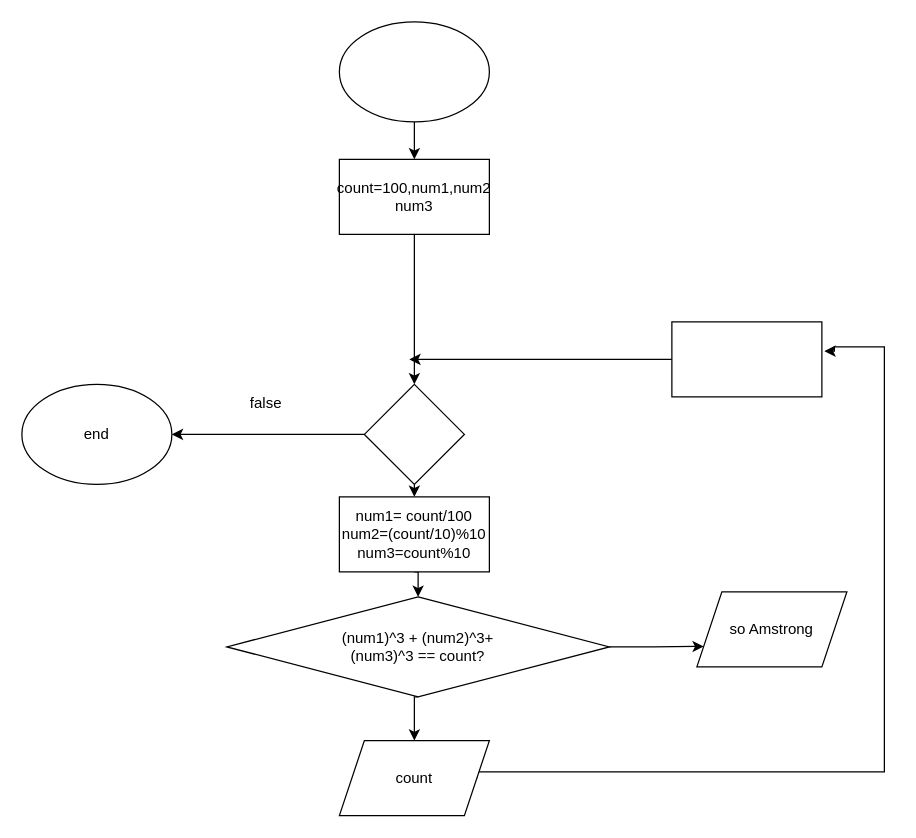
Some shapes in this 916 by 838 pixel diagram are drawn without their labels. Here are the shapes that lost their labels. From the top down, the centre of each, then its label:
At pixel 413 71: "start".
At pixel 746 359: "tăng count lên 1".
At pixel 413 433: "count<999?".
